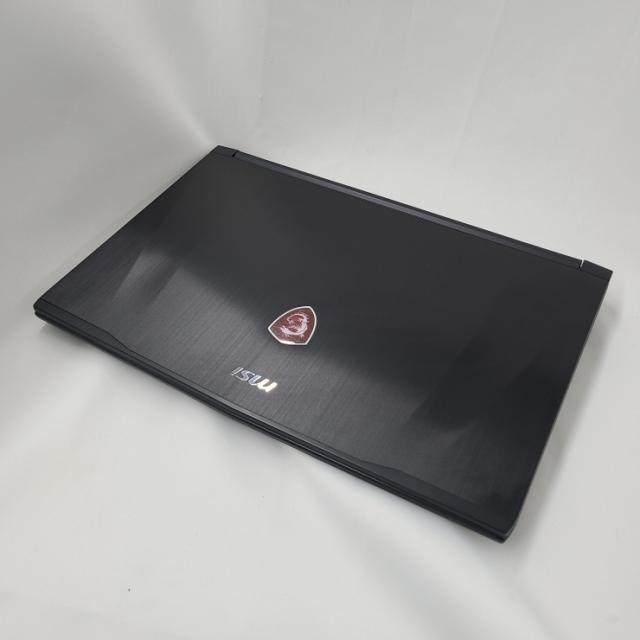laptop: (25, 143, 618, 551)
